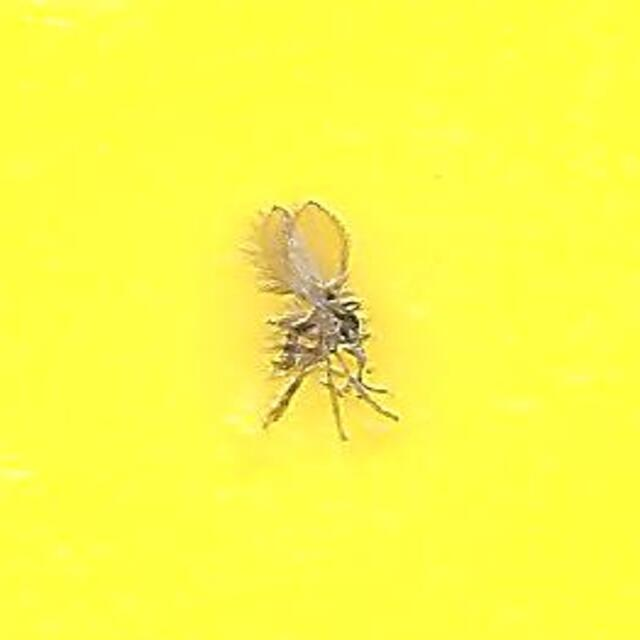Nematocera: (244, 199, 396, 441)
